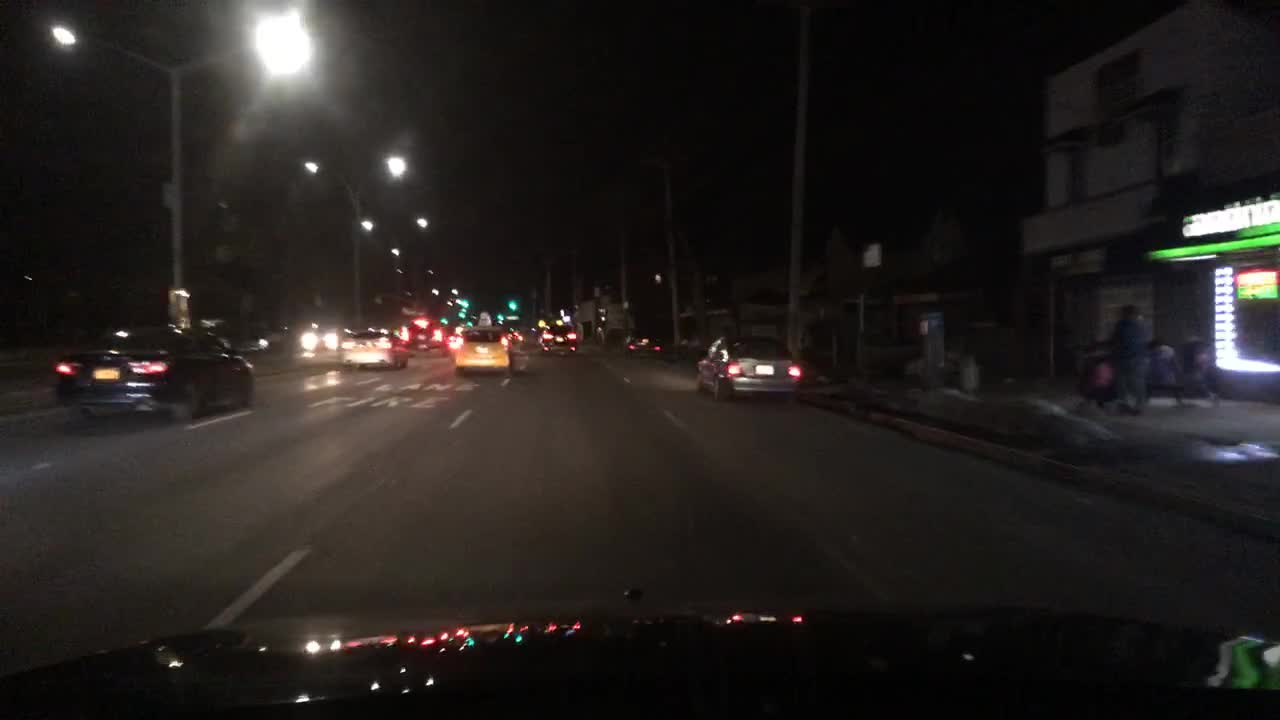car: (52, 323, 256, 427), (695, 332, 805, 404), (447, 314, 513, 372), (337, 327, 409, 370), (400, 314, 446, 347), (302, 321, 346, 355), (538, 324, 580, 355), (622, 328, 663, 355), (447, 331, 464, 350), (508, 331, 526, 347)
person: (1108, 301, 1152, 416), (1079, 337, 1121, 409), (1143, 337, 1178, 391), (1180, 333, 1216, 378)
traffic light: (506, 299, 521, 313), (456, 310, 466, 319)
traffic sign: (929, 314, 944, 327)
